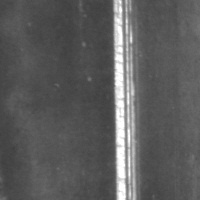scratches: (111, 1, 144, 200)
